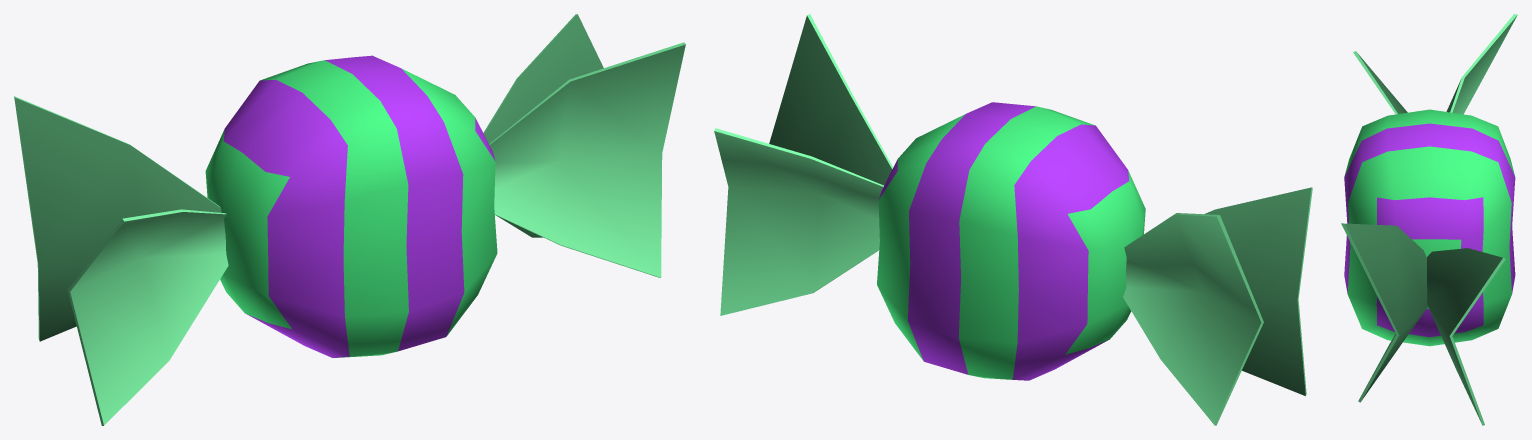
File: Candy2.fbx
3 renders of one model, left to right at view 1: azimuth 30°, elevation 25°; view 2: azimuth 150°, elevation 25°; view 3: azimuth 270°, elevation 25°, orthographic. The views are drawn at different scales.
Visible parts, largest first — view 1: Box015; view 2: Box015; view 3: Box015.
Part boxes in pixels (x1,y1,x2,y2): Box015: (14,14,685,425); Box015: (714,14,1312,425); Box015: (1341,14,1517,425).
Size of the model in its own units: 227 by 76.68 by 100.
1 material, 1 textured.
